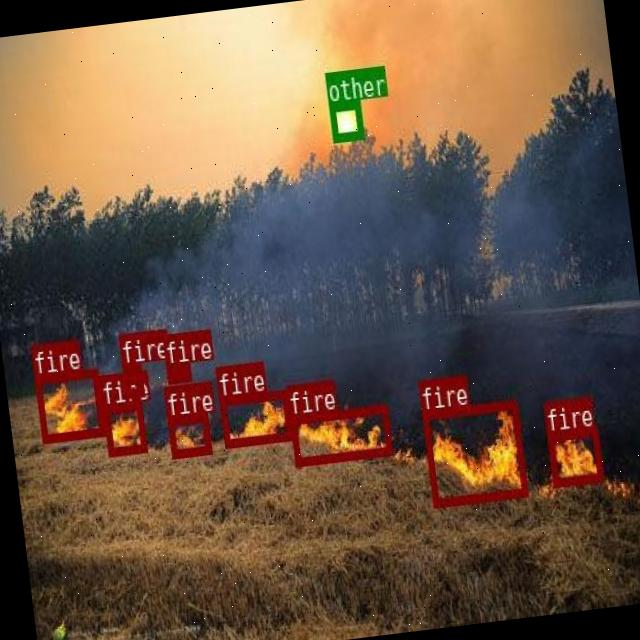fire: (420, 399, 526, 505), (290, 404, 390, 465), (32, 367, 104, 442), (218, 388, 292, 446), (546, 425, 602, 485), (101, 399, 146, 454), (166, 412, 210, 457), (120, 362, 142, 396), (165, 361, 190, 382)
